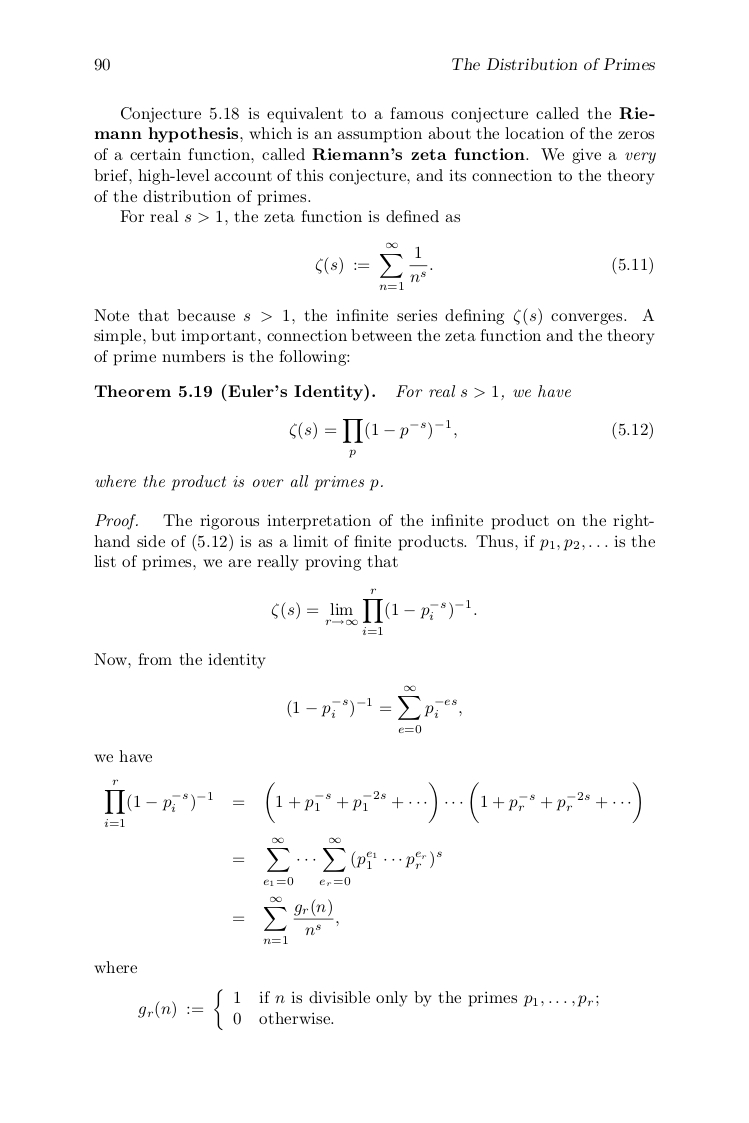formula: (104, 778, 640, 827), (138, 988, 598, 1030), (315, 241, 652, 290), (289, 419, 652, 457), (233, 837, 441, 885), (271, 588, 476, 634), (287, 685, 461, 733), (233, 895, 338, 944)
